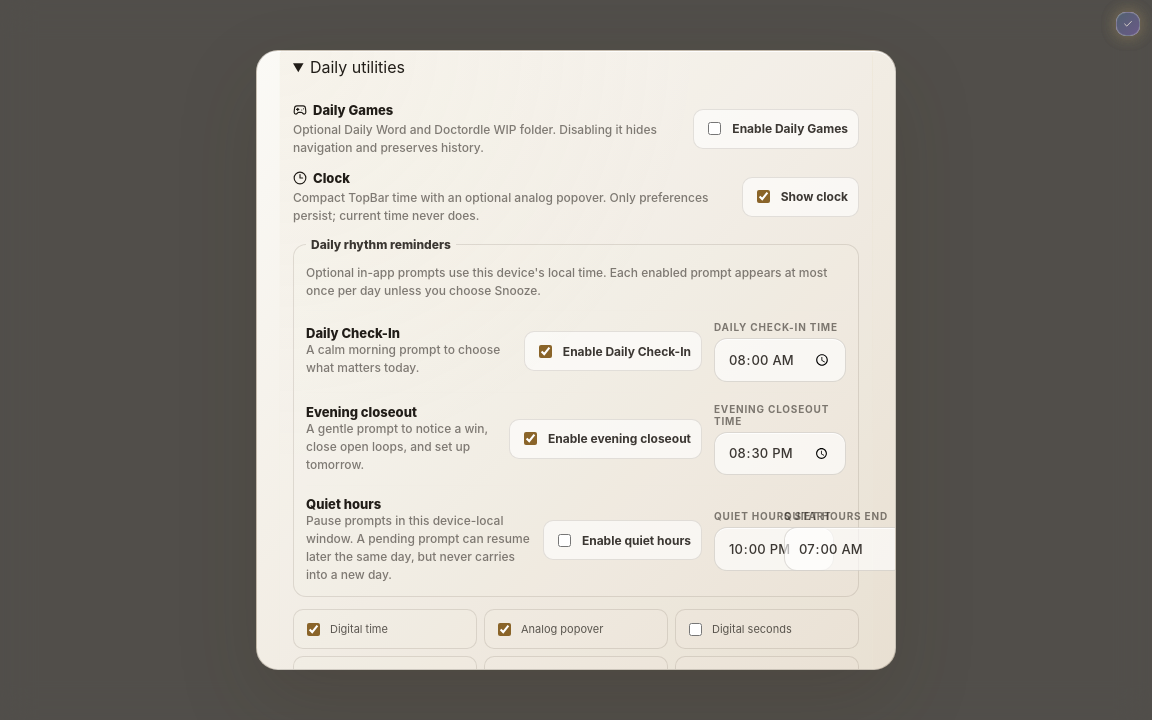
Scenario: Settings information architecture › shows canonical daily-loop reminder defaults and persists personalized times and enablement
(page scrolled)
Expected: the checkbox labelled "Enable Daily Check-In" is checked, [539, 345, 552, 358]
Expected: the checkbox labelled "Enable evening closeout" is checked, [524, 432, 537, 445]
Replace the text in the time field labelled "Daily Check-In time" with "07:15". click: (780, 360)
box: [714, 338, 846, 382]
Replace the text in the time field labelled "Evening closeout time" with "21:45". click: (780, 453)
box: [714, 432, 846, 475]
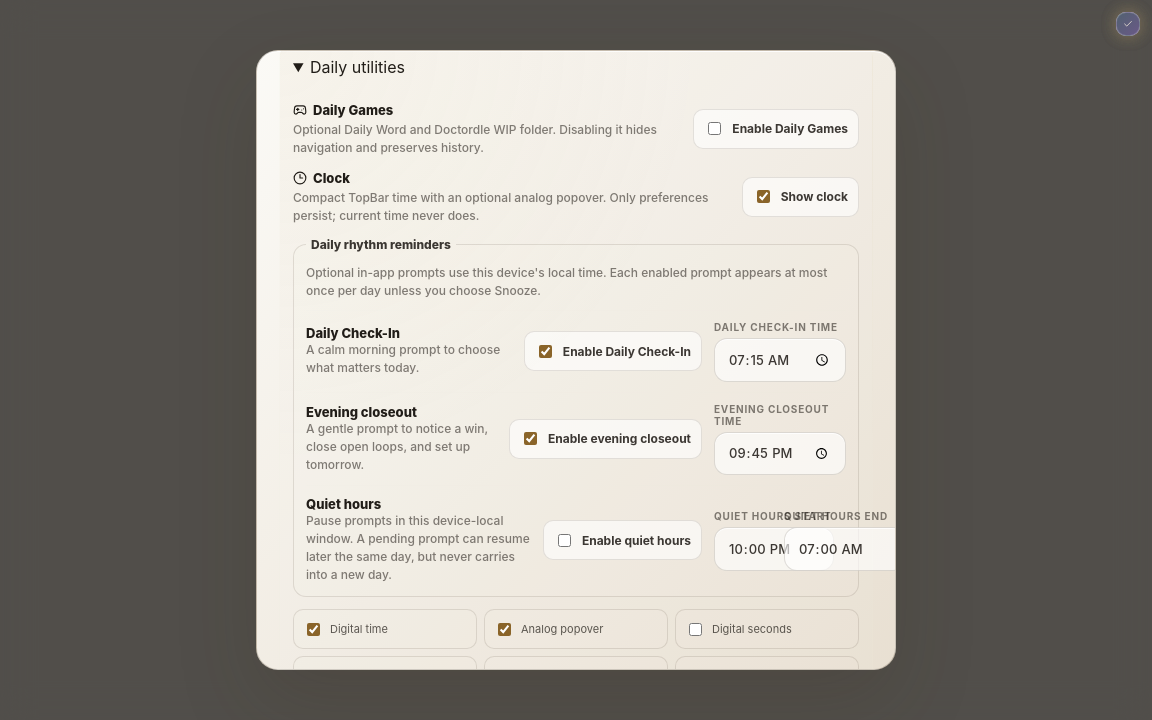
Click the checkbox labelled "Enable quiet hours". click: (564, 540)
box: [558, 534, 571, 547]
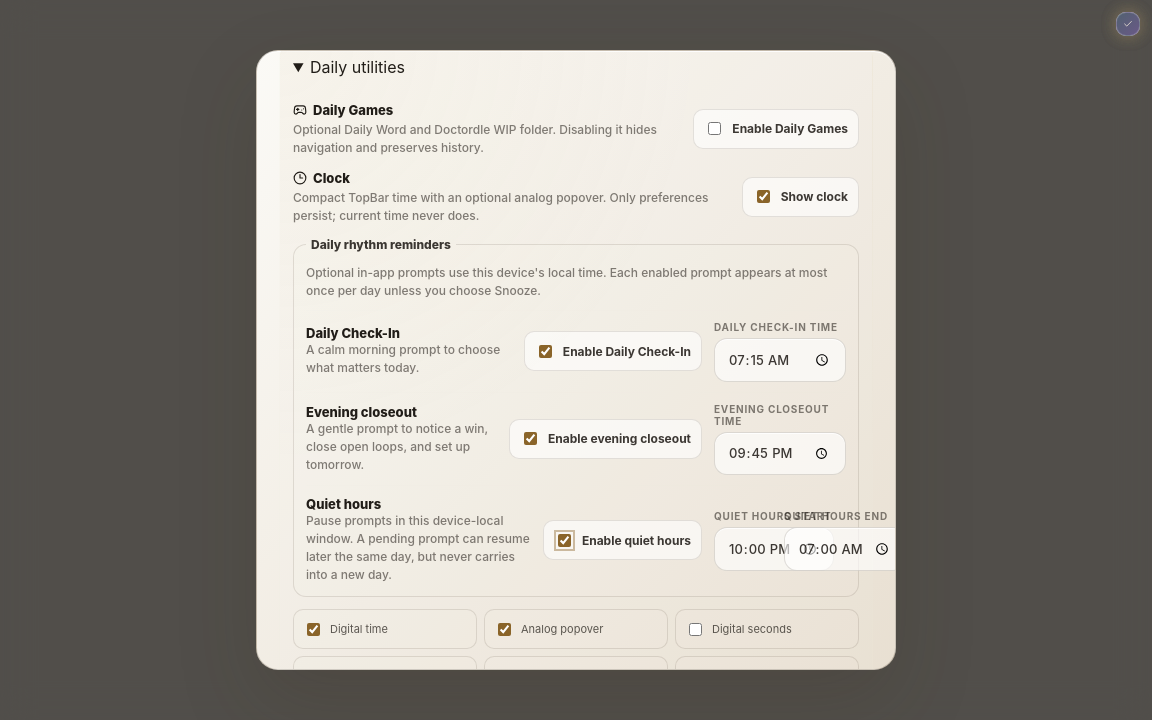
Replace the text in the time field labelled "Quiet hours start" with "23:15". click: (774, 549)
box: [714, 527, 834, 570]
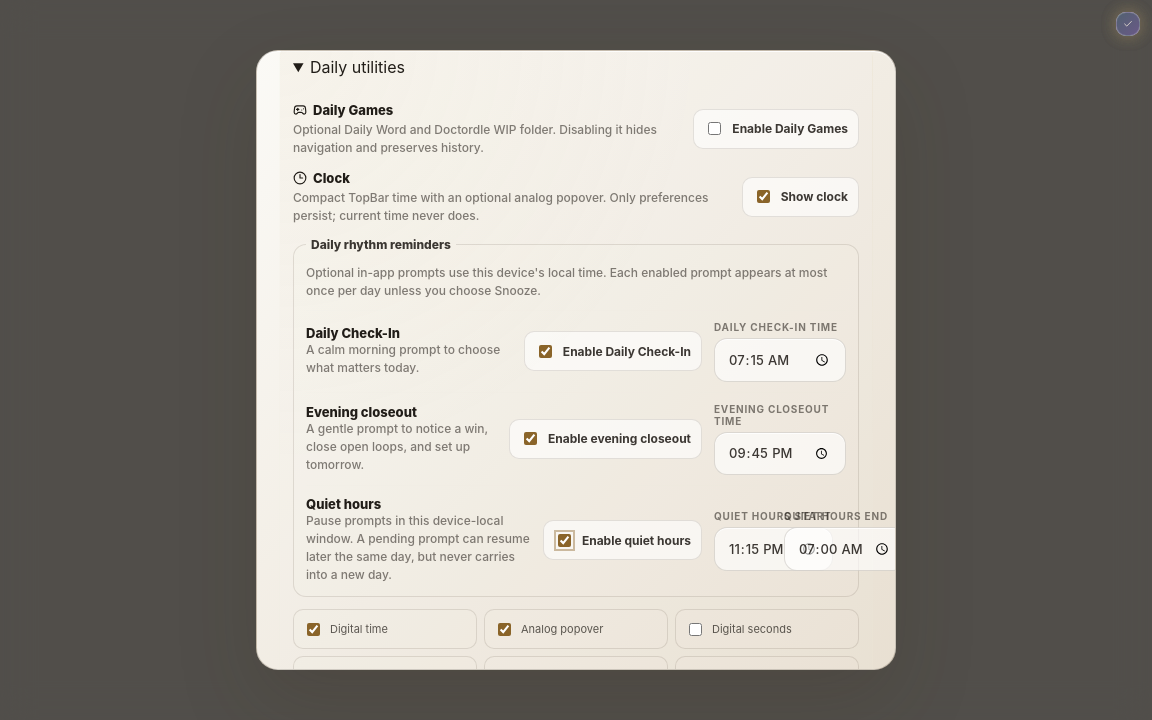
Replace the text in the time field labelled "Quiet hours end" with "06:30". click: (845, 549)
box: [784, 527, 906, 570]
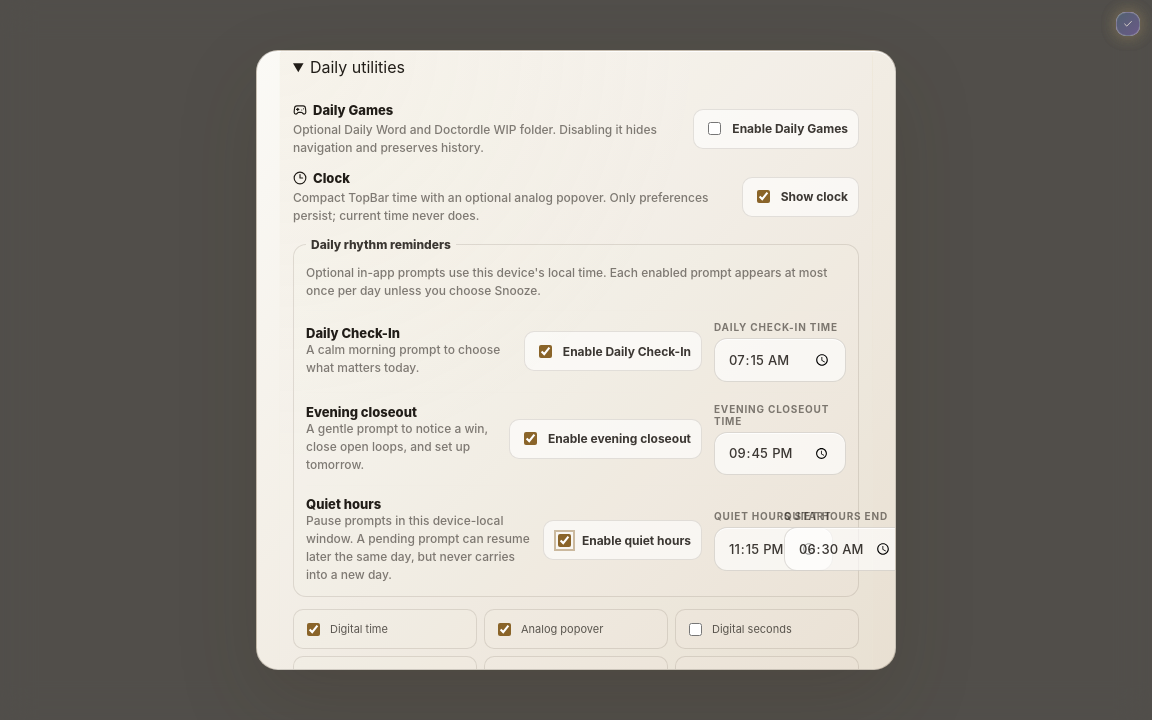
Click the checkbox labelled "Enable Daily Check-In". click: (545, 351)
box: [539, 345, 552, 358]
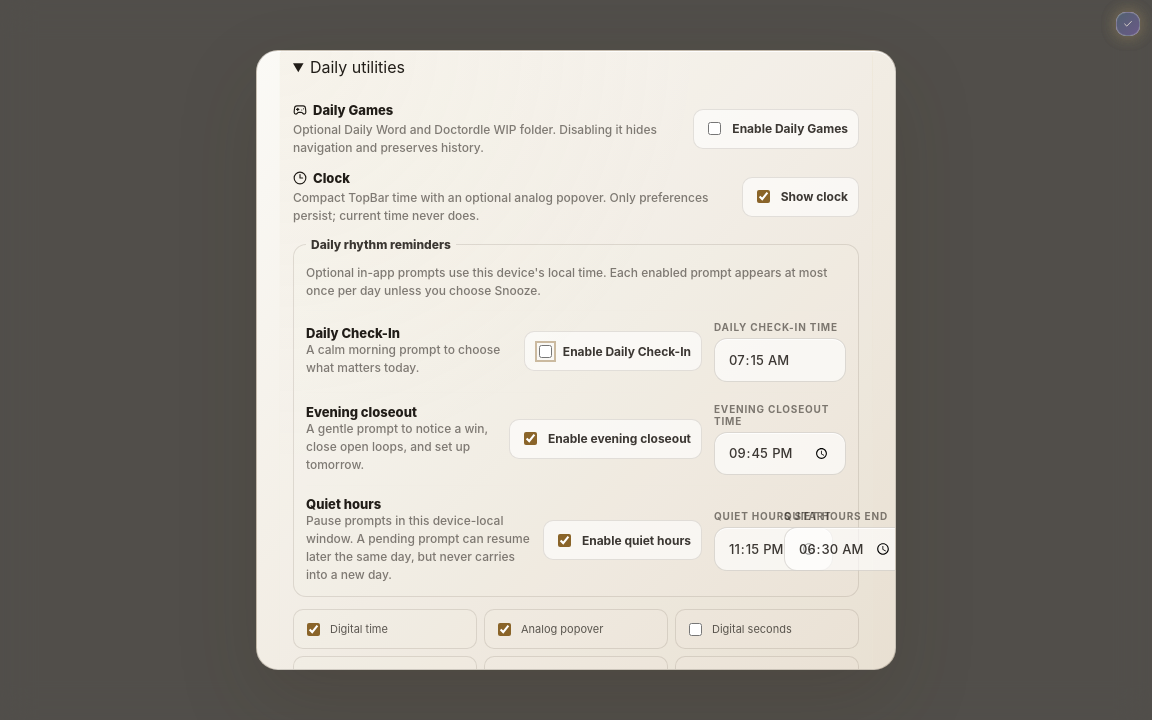
Click the checkbox labelled "Enable evening closeout". click: (530, 439)
box: [524, 432, 537, 445]
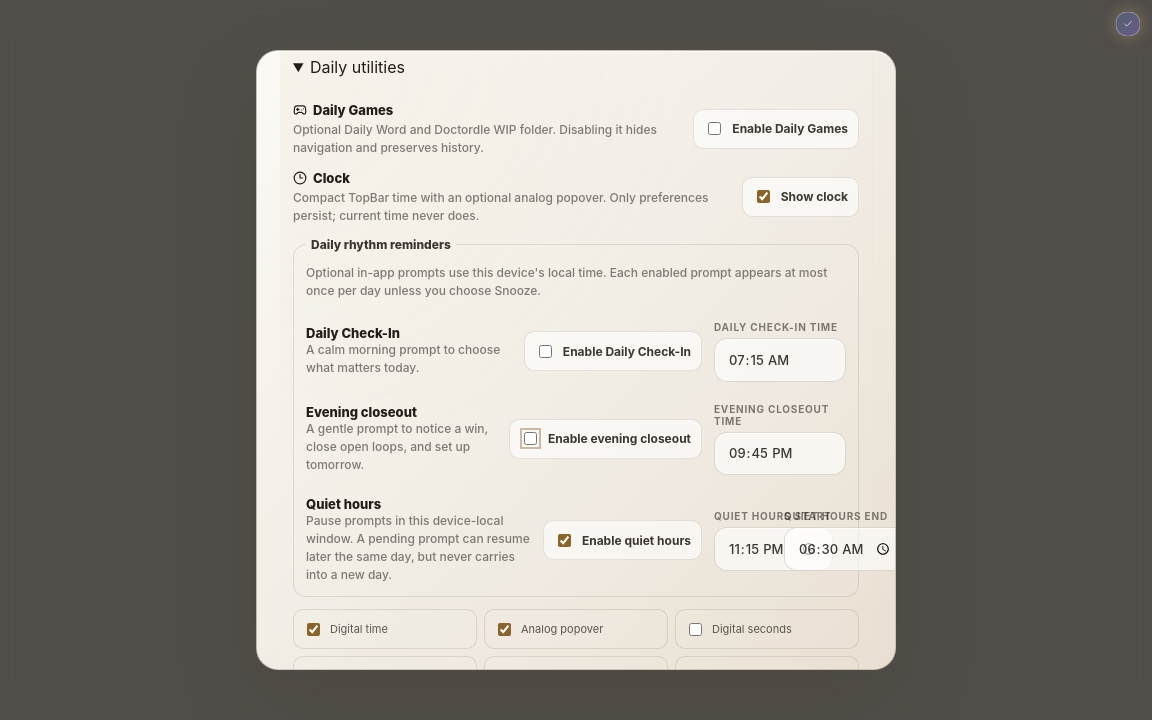
Now the time field labelled "Daily Check-In time" is disabled, box [714, 338, 846, 382]
Now the time field labelled "Evening closeout time" is disabled, box [714, 432, 846, 475]
